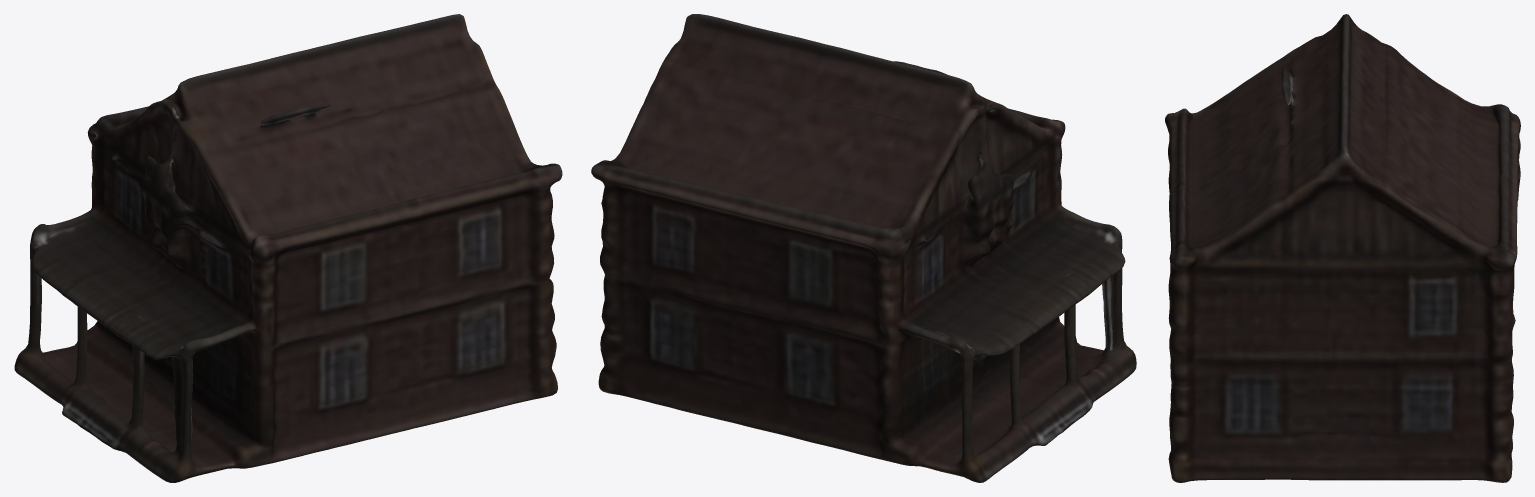
Rendered from wooden_house.glb.
3 views of the same model, side by side, from view 1: azimuth 30°, elevation 25°; view 2: azimuth 150°, elevation 25°; view 3: azimuth 270°, elevation 25° (orthographic).
Visible parts, largest first — view 1: world; view 2: world; view 3: world.
Boxes of the visible parts, x1,y1,x2,y2 form: world: (14,14,562,482); world: (591,14,1136,482); world: (1165,14,1520,482).
Bounding box in the file's own units: 0.42 × 0.3312 × 0.3216.
1 material, 1 textured.
